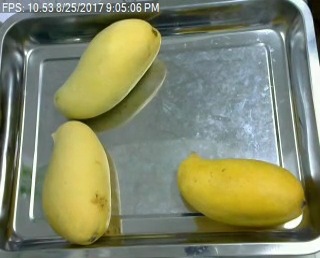Mango: (54, 16, 166, 119), (179, 147, 308, 229), (41, 117, 115, 245)
